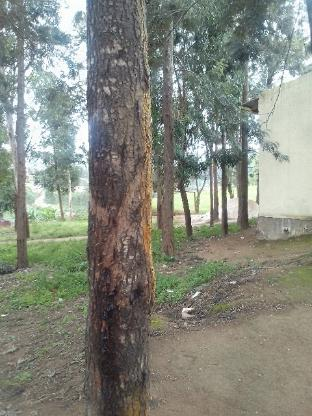tree: (78, 0, 165, 416)
